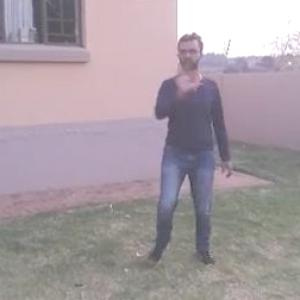follow_hand: (162, 57, 203, 93)
